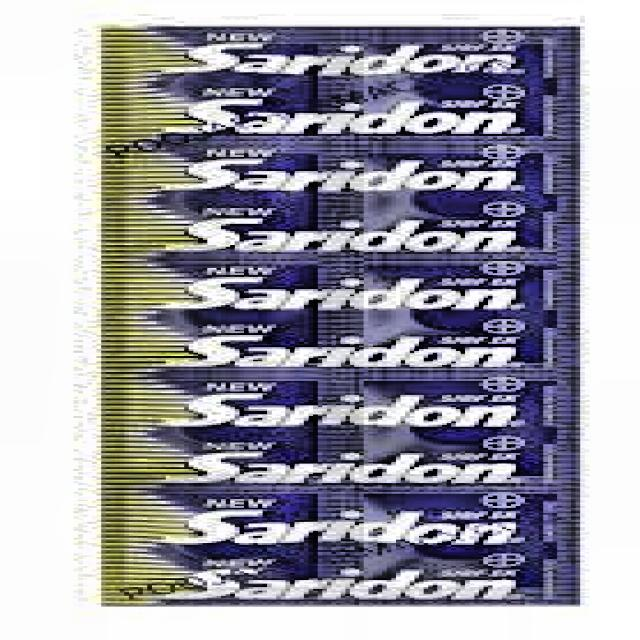Saridon: (110, 36, 585, 604)
